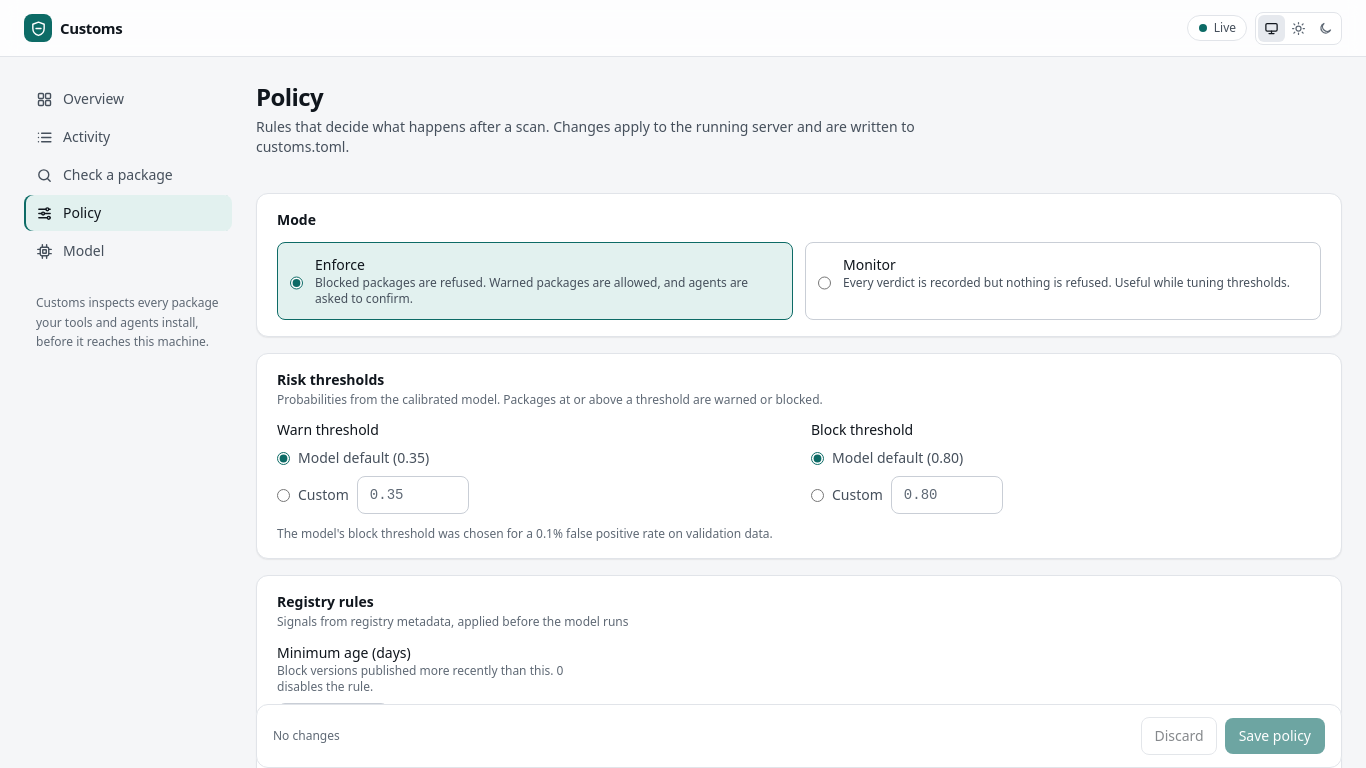
Scenario: Policy page › validates thresholds on the client before saving
Expected: the heading "Mode" is shown, [277,210,316,230]
Click the radio button labelled "Custom" below "(0.35)": (284, 495) [277,488,290,502]
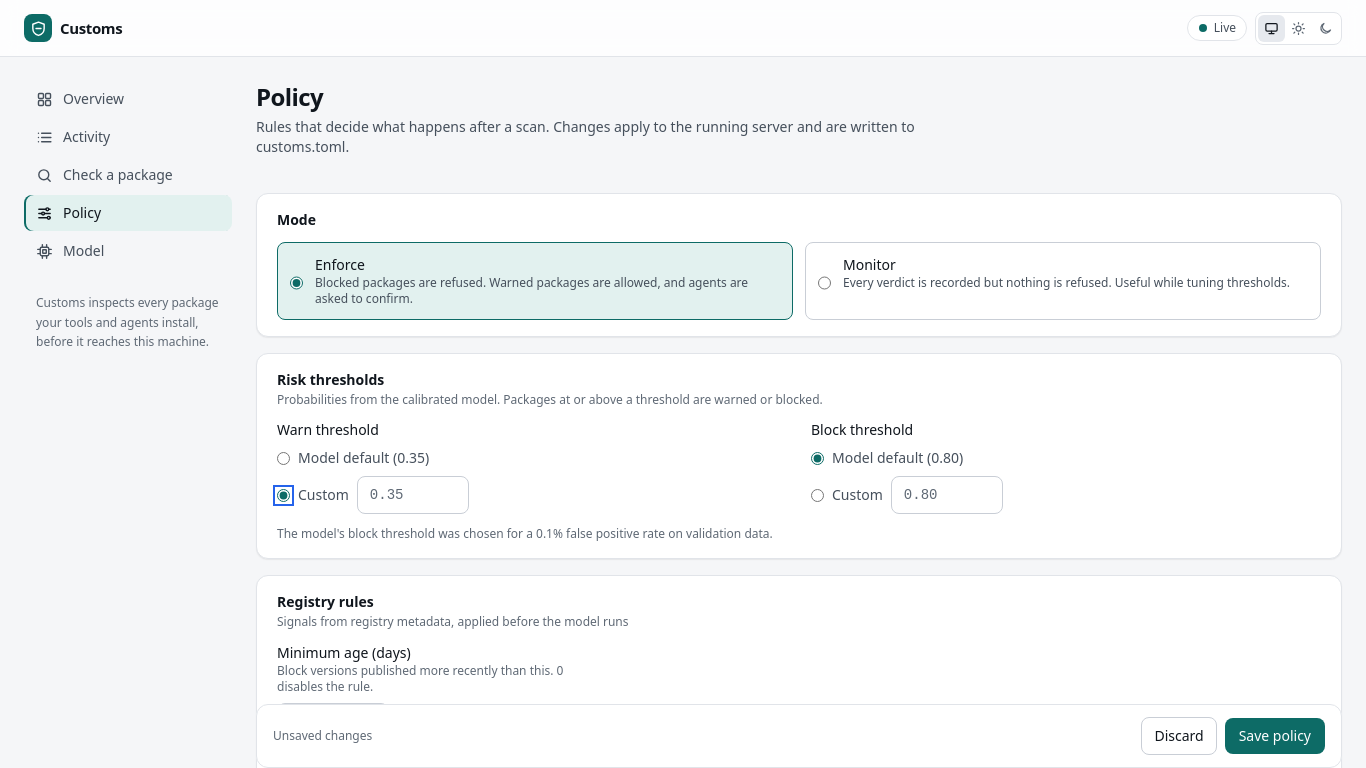
In the field named "Warn threshold, custom value": (413, 495) [357,476,469,514], type "0.9"
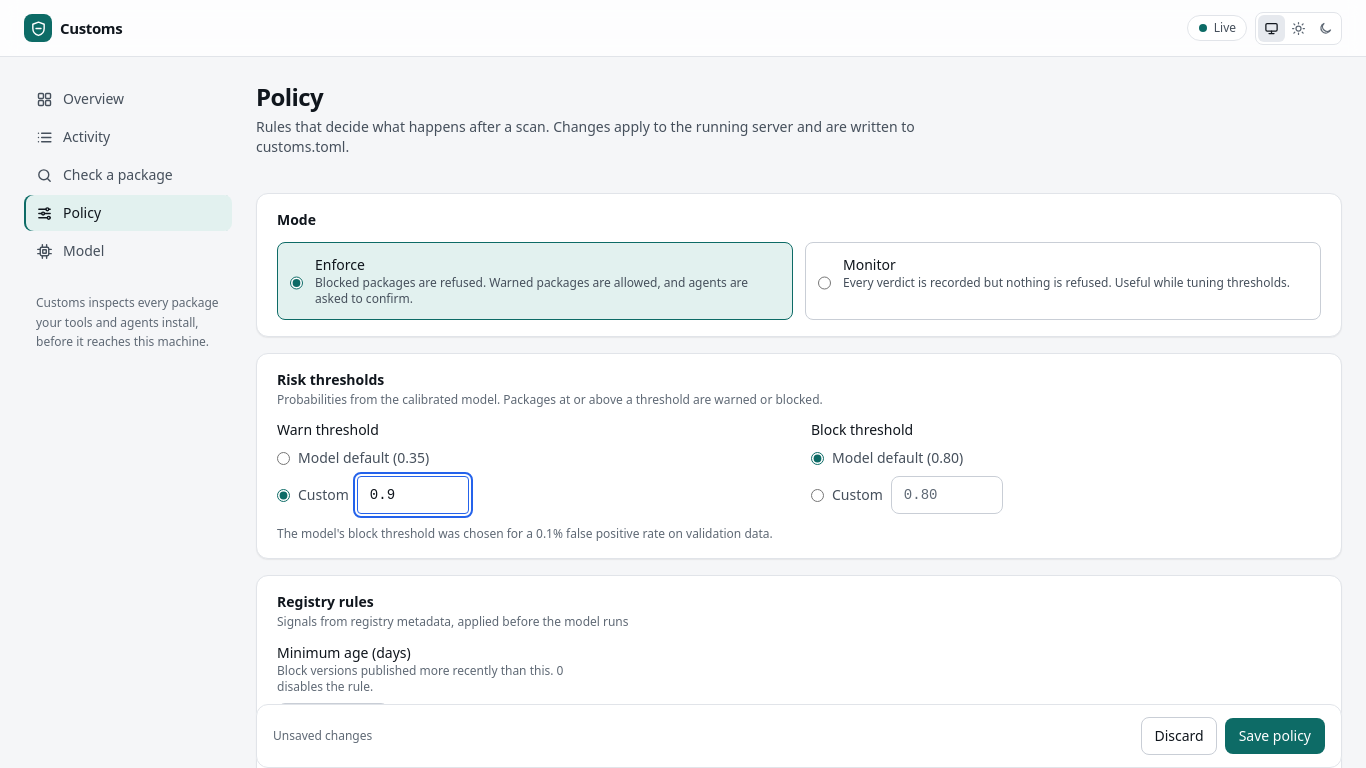
Click the radio button labelled "Custom" below "(0.80)": (818, 495) [811,488,824,502]
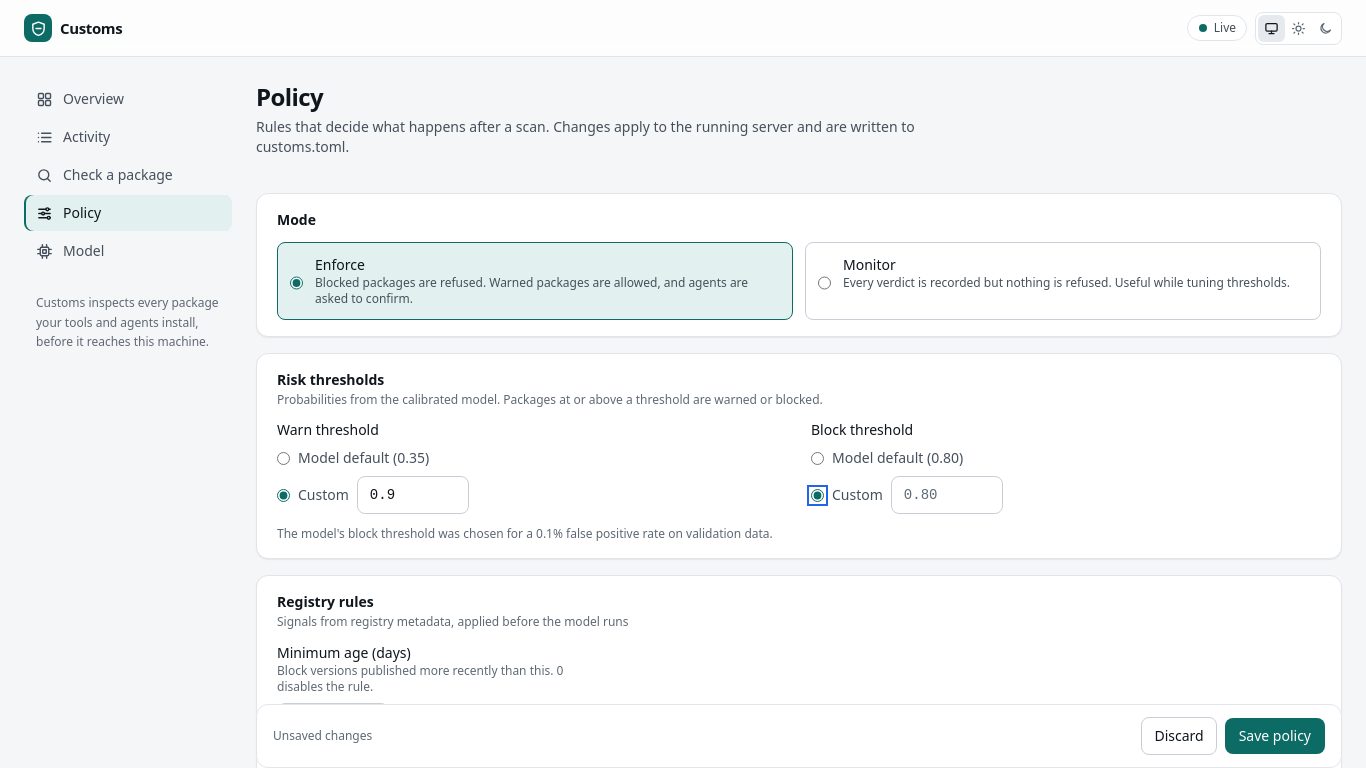
In the field named "Block threshold, custom value": (947, 495) [891,476,1003,514], type "0.5"
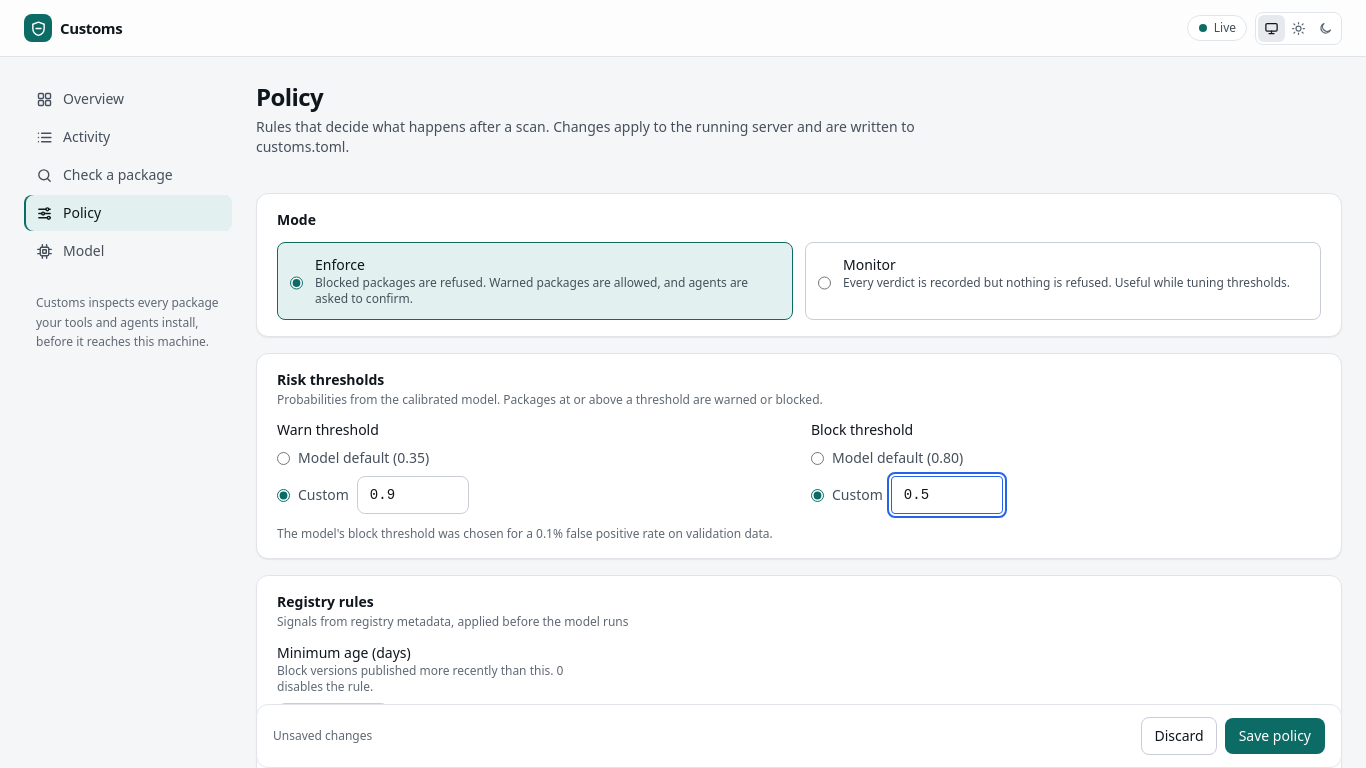
Click the button "Save policy": (1275, 736) [1225,718,1325,754]
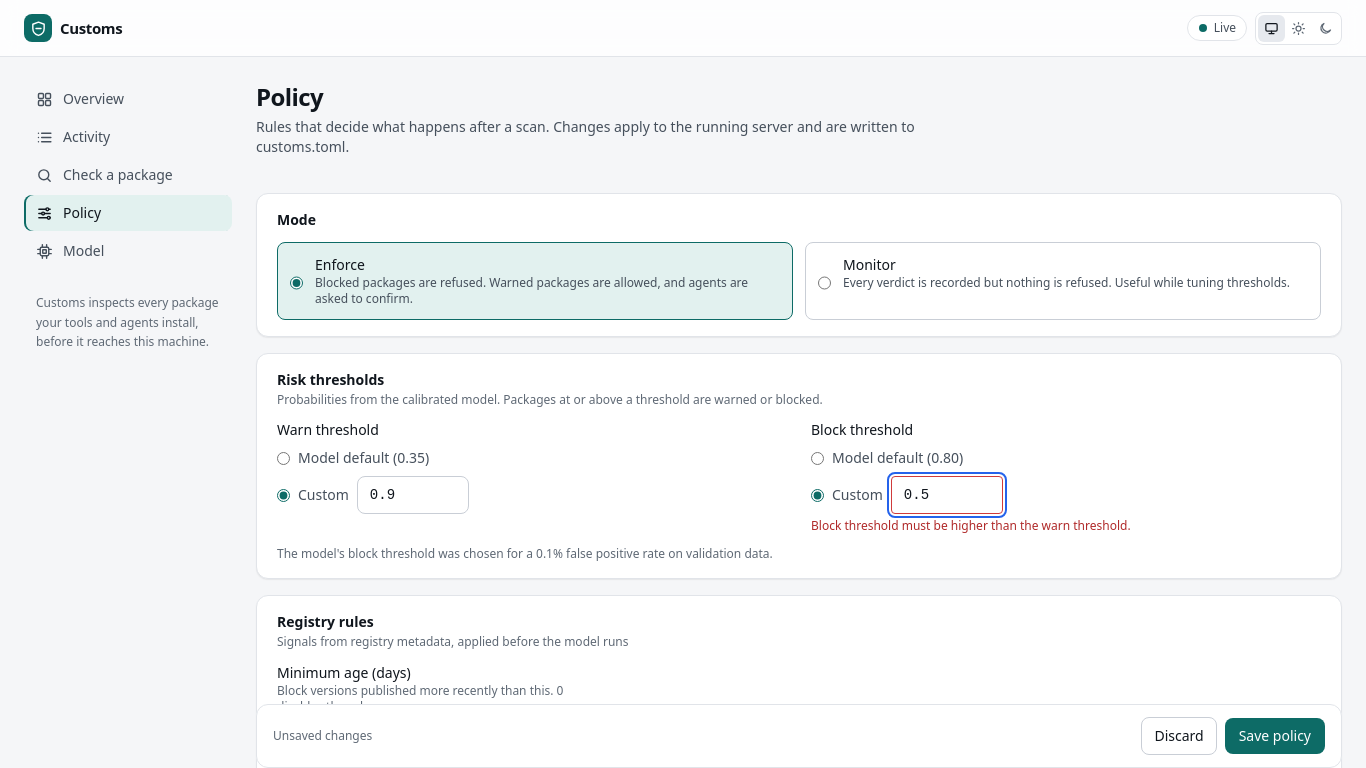
Result: the text "Block threshold must be higher than the warn threshold." is shown at [811,517,1131,534]
